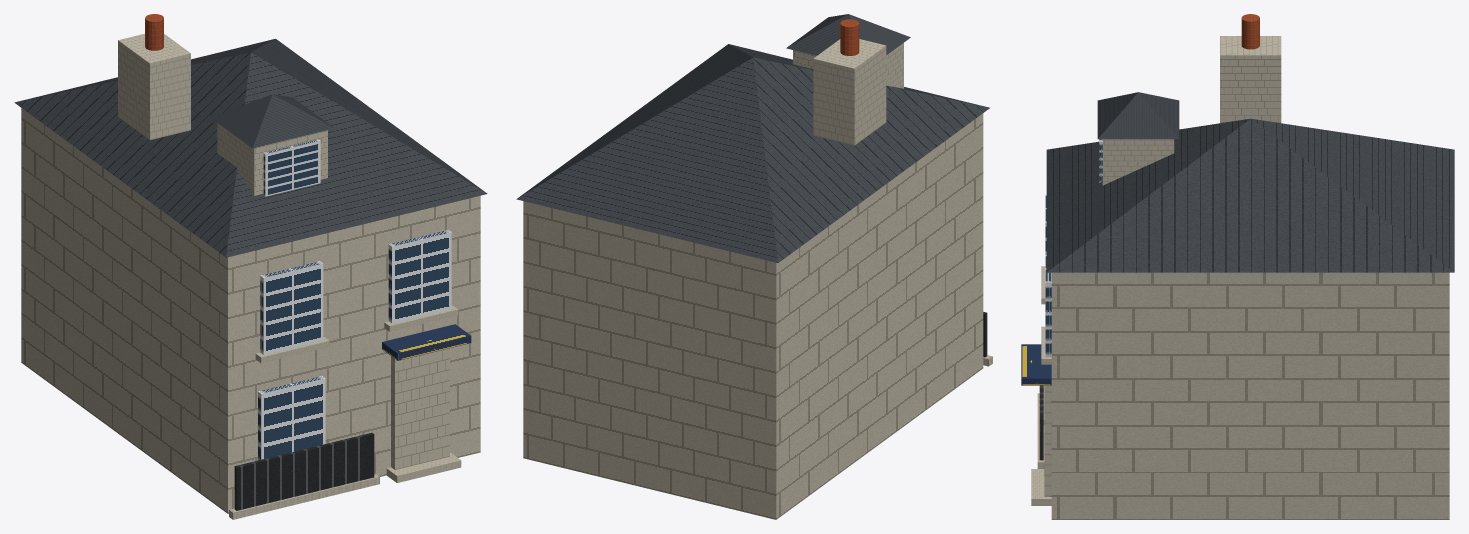
The model's file is house_terrace_02_stone_render.glb.
3 renders of one model, left to right at view 1: azimuth 30°, elevation 25°; view 2: azimuth 150°, elevation 25°; view 3: azimuth 270°, elevation 25°, orthographic. The views are drawn at different scales.
Parts seen in each view (by area): view 1: House_Terrace_02_Stone_Render; view 2: House_Terrace_02_Stone_Render; view 3: House_Terrace_02_Stone_Render.
Part boxes in pixels (x1,y1,x2,y2): House_Terrace_02_Stone_Render: [14, 14, 487, 519]; House_Terrace_02_Stone_Render: [516, 14, 992, 519]; House_Terrace_02_Stone_Render: [1021, 14, 1454, 519].
Size of the model in its own units: 5.7 by 8.6 by 8.5.
1 material, 1 textured.
